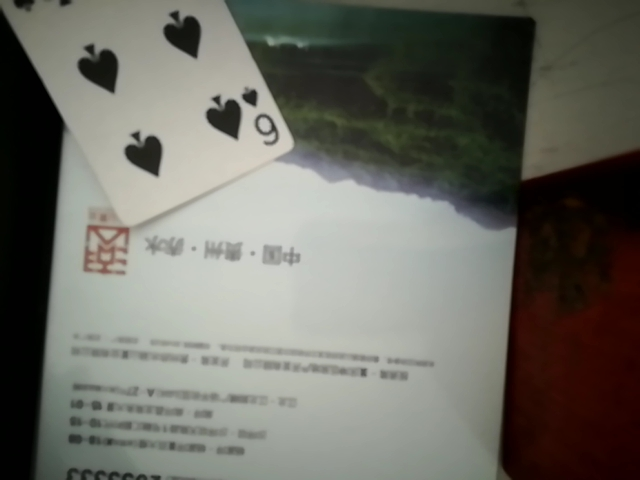ht 6: (9, 3, 287, 260)
